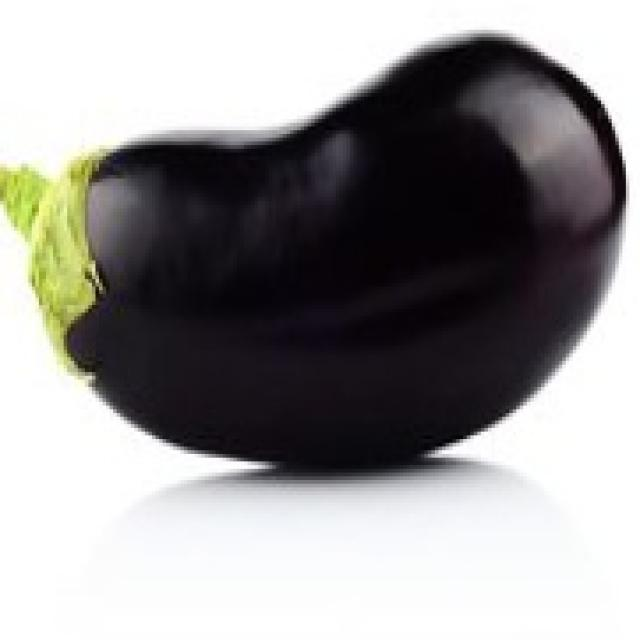eggplant: (25, 34, 629, 472)
